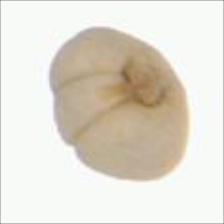L5: (53, 69, 126, 147), (118, 50, 179, 110), (52, 93, 76, 144)
L6: (46, 23, 197, 184)
